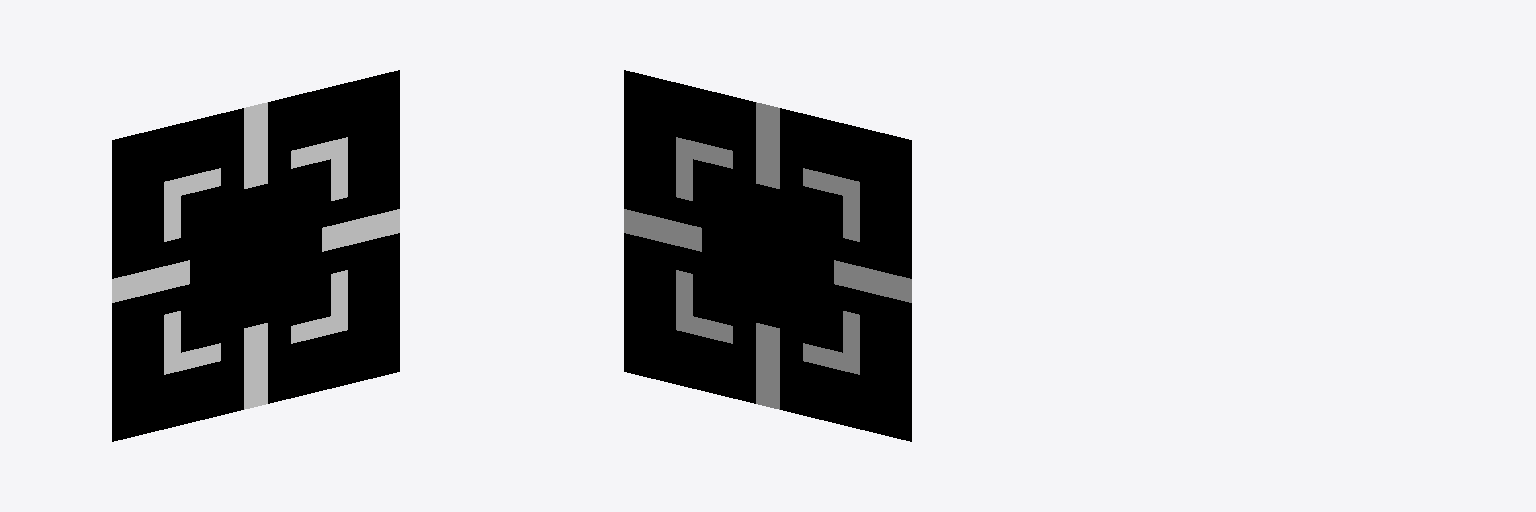
3 renders of one model, left to right at view 1: azimuth 30°, elevation 25°; view 2: azimuth 150°, elevation 25°; view 3: azimuth 270°, elevation 25°, orthographic.
Visible parts, largest first — view 1: plane; view 2: plane; view 3: none.
Part boxes in pixels (x1,y1,x2,y2): plane: (112, 70, 399, 441); plane: (624, 70, 911, 441).
Bounding box in the file's own units: 1 × 1 × 0.
1 materials, 1 textured.